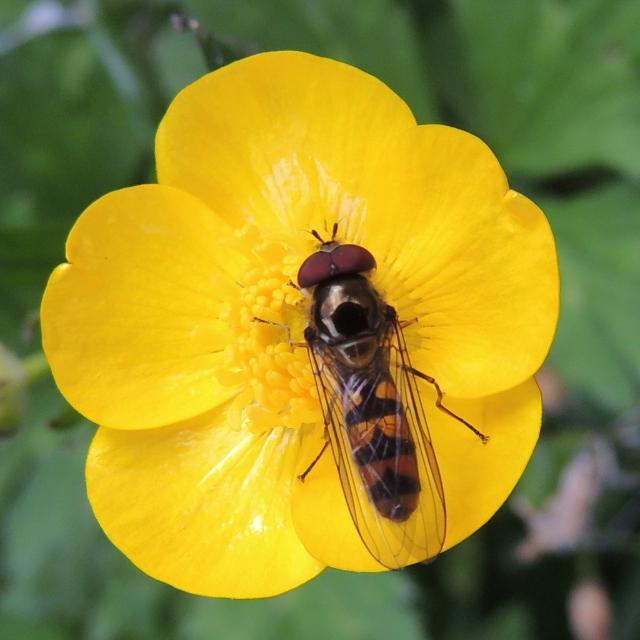Flower: (42, 42, 590, 634)
